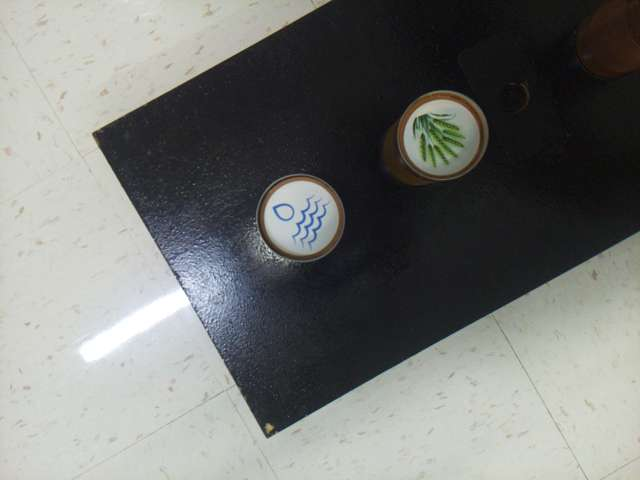water_barrel: (270, 186, 333, 254)
wheat_barrel: (406, 103, 471, 174)
